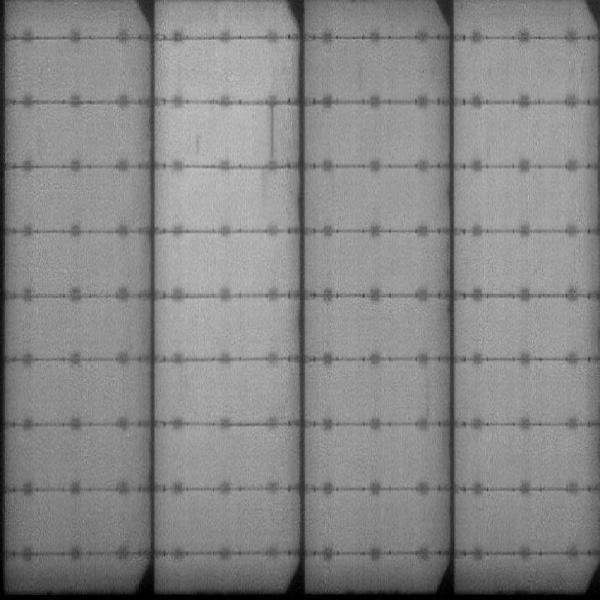scratch: (267, 106, 275, 158)
